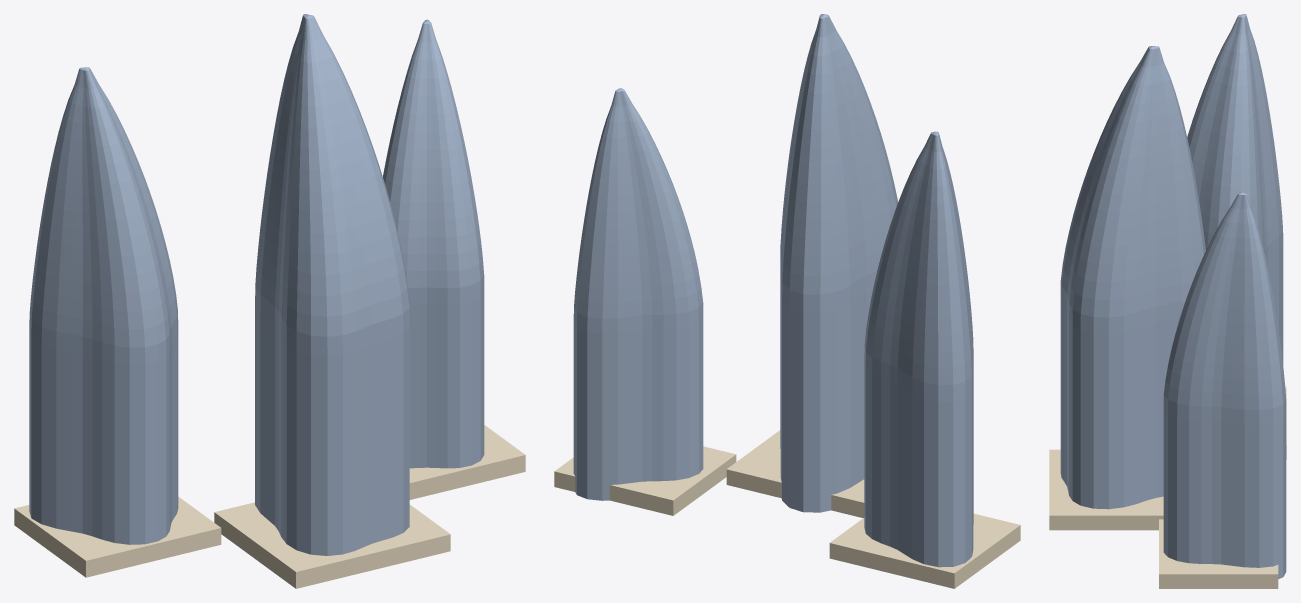
The model's file is flame_towers.glb.
3 views of the same model, side by side, from view 1: azimuth 30°, elevation 25°; view 2: azimuth 150°, elevation 25°; view 3: azimuth 270°, elevation 25° (orthographic). The views are drawn at different scales.
Parts seen in each view (by area): view 1: flame_1, flame_2, flame_3; view 2: flame_3, flame_1, flame_2; view 3: flame_1, flame_3, flame_2.
Part boxes in pixels (x1=…): flame_1: x1=214, y1=14, x2=450, y2=588; flame_2: x1=14, y1=67, x2=221, y2=577; flame_3: x1=383, y1=19, x2=525, y2=499; flame_3: x1=554, y1=88, x2=736, y2=515; flame_1: x1=726, y1=14, x2=898, y2=517; flame_2: x1=829, y1=131, x2=1020, y2=588; flame_1: x1=1049, y1=46, x2=1205, y2=530; flame_3: x1=1159, y1=192, x2=1286, y2=588; flame_2: x1=1187, y1=14, x2=1286, y2=459.
Size of the model in its own units: 163 by 182 by 87.51.
